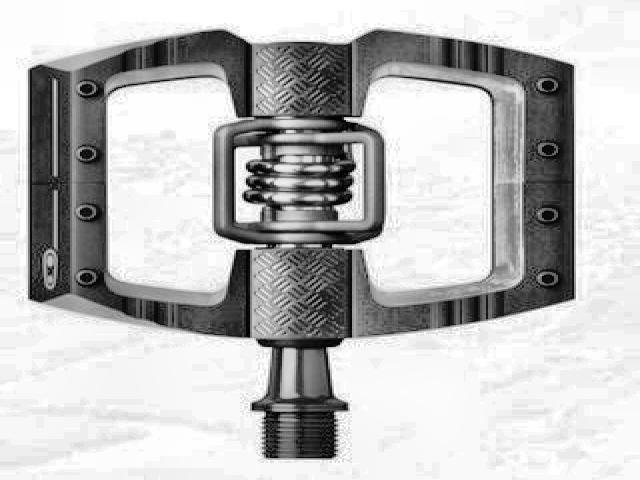pedal: (23, 20, 586, 463)
